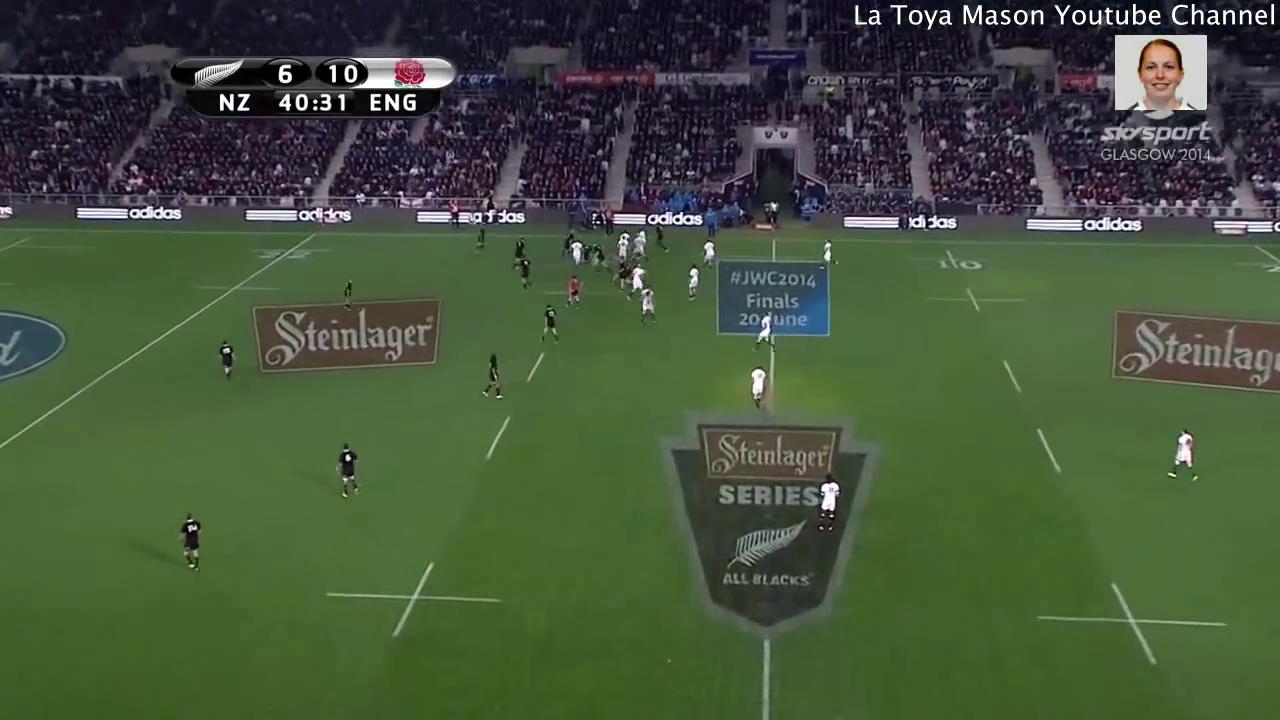10_metre: (1029, 578, 1231, 672), (321, 554, 507, 643), (919, 282, 1030, 322), (900, 248, 1000, 275), (533, 276, 615, 306)
player: (1160, 423, 1204, 485), (809, 469, 842, 540), (175, 508, 206, 578), (330, 439, 365, 501), (474, 348, 507, 402), (748, 308, 781, 354), (213, 337, 241, 387), (746, 360, 769, 415), (679, 260, 705, 307), (536, 302, 564, 345), (638, 283, 662, 332), (816, 236, 841, 278), (695, 234, 720, 274), (612, 256, 636, 296), (629, 261, 650, 304), (507, 233, 528, 273), (650, 220, 673, 255), (339, 272, 357, 313), (516, 252, 534, 292), (558, 227, 578, 261), (590, 244, 611, 276), (628, 232, 648, 265), (567, 239, 584, 271), (474, 219, 489, 254), (616, 230, 628, 260)
